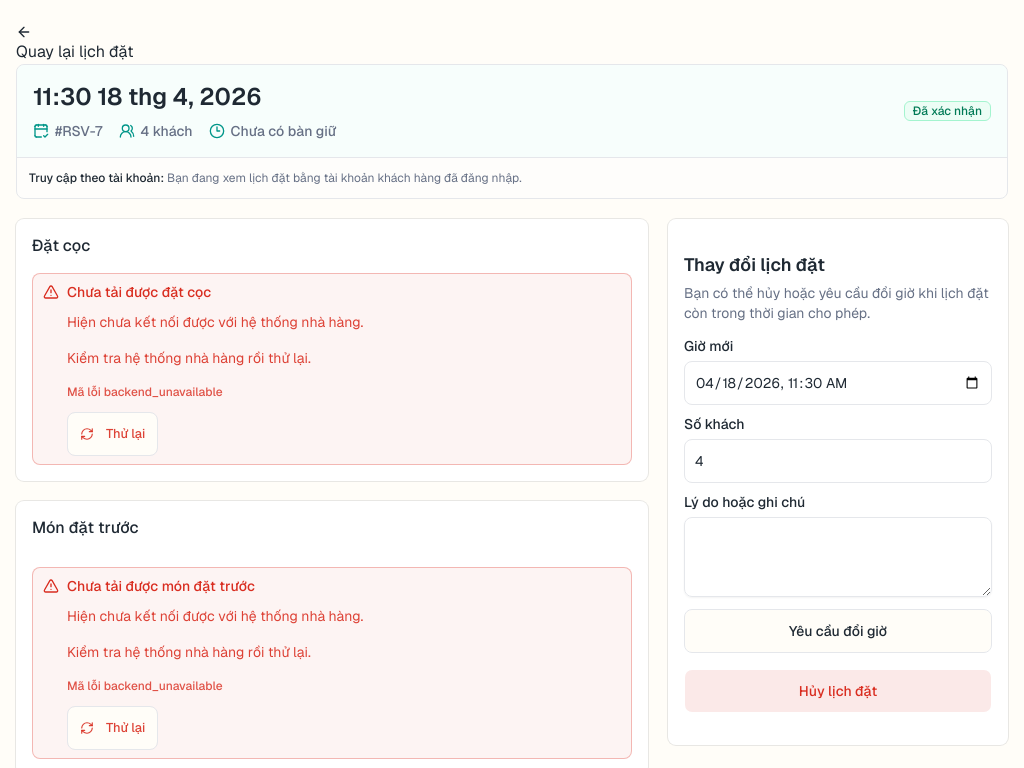
Test: ReservationDetailPage › prevents cancel and reschedule from running at the same time
Click the button "Yêu cầu đổi giờ" at (838, 631), box left=684, top=609, right=992, bottom=653
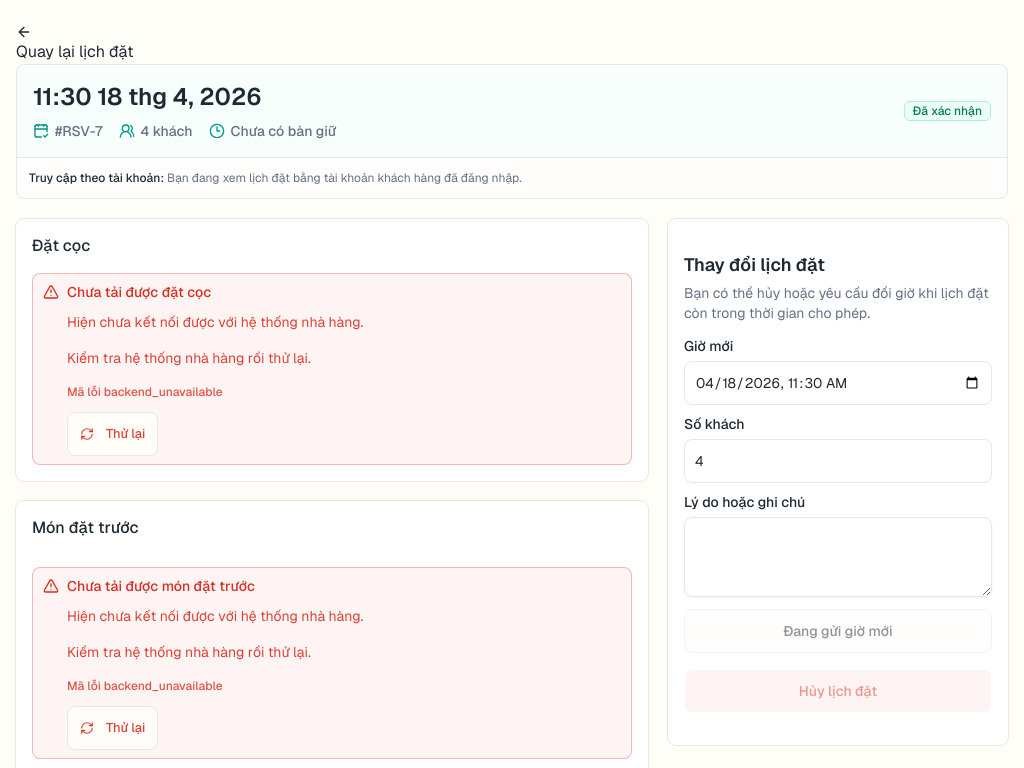
Expected: the button "Hủy lịch đặt" is disabled, left=684, top=669, right=992, bottom=713
